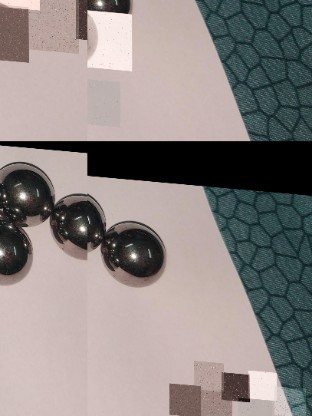ironball: (101, 219, 167, 285), (50, 188, 111, 259), (0, 160, 58, 225), (87, 8, 131, 68), (27, 0, 78, 50), (0, 221, 35, 290), (0, 0, 28, 60), (87, 76, 119, 125), (168, 380, 200, 414), (197, 384, 231, 415), (193, 357, 223, 388), (247, 366, 276, 396), (220, 368, 249, 398), (237, 394, 271, 415)
